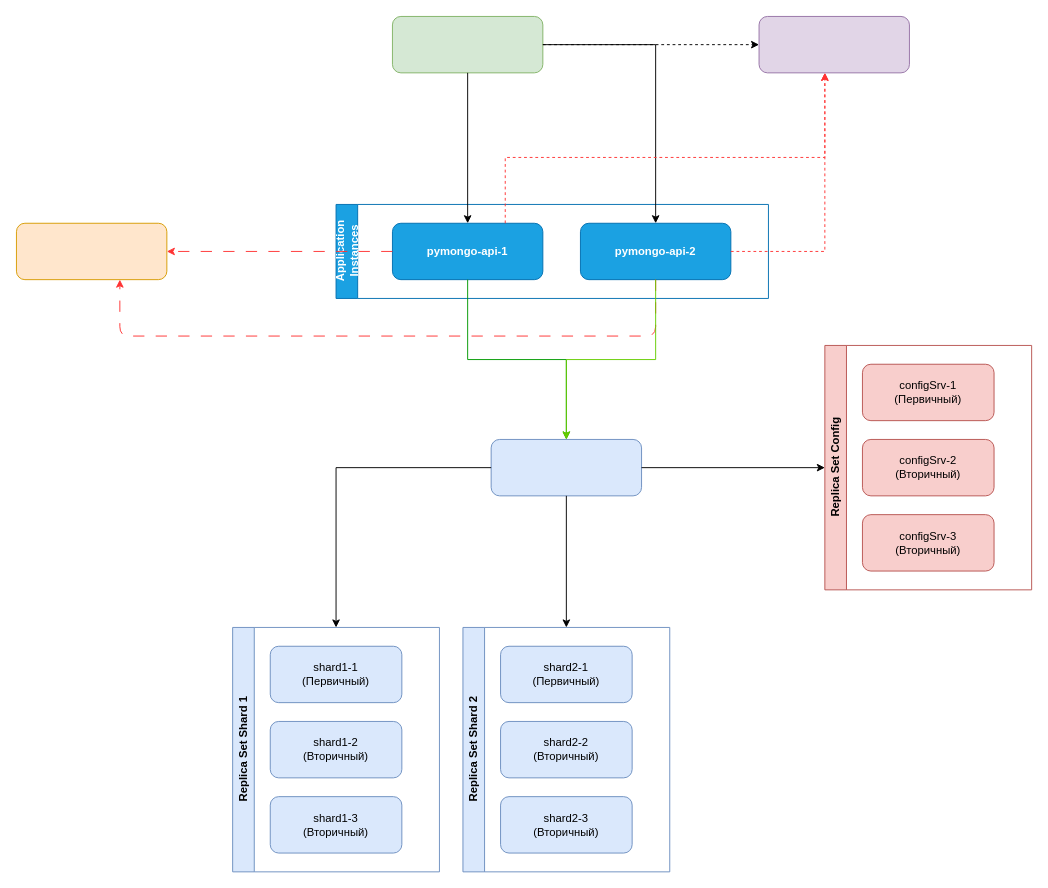
Image size: 1048x888. Some labels were removed from this diagram. The shapes that lost their labels are listed below. From the top down, each one's centre as x and y in pixels, then its label:
(x=467, y=44): API Gateway
(x=833, y=44): Consul (Service Discovery)
(x=91, y=251): redis (Кэш)
(x=566, y=467): mongos (Роутер)
